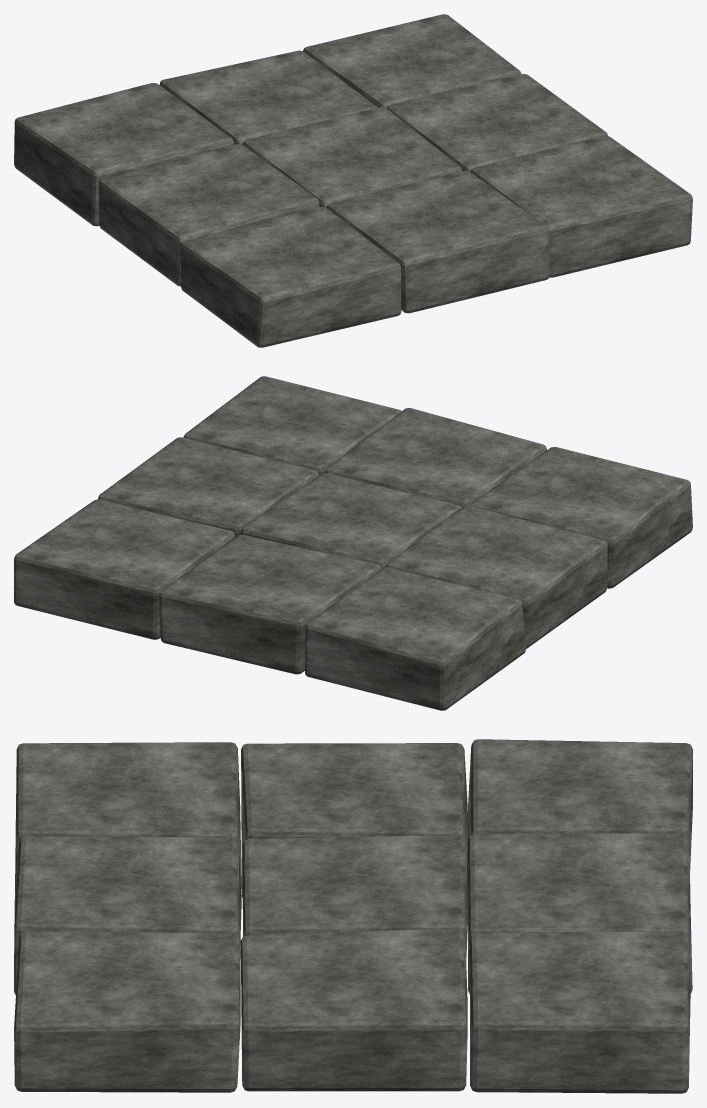
Rendered from 06_Foundation_Tile_300.glb.
3 renders of one model, top to bottom at view 1: azimuth 30°, elevation 25°; view 2: azimuth 150°, elevation 25°; view 3: azimuth 270°, elevation 25°, orthographic. The views are drawn at different scales.
Parts seen in each view (by area): view 1: 06_Foundation_Tile_300; view 2: 06_Foundation_Tile_300; view 3: 06_Foundation_Tile_300.
Part boxes in pixels (x1,y1,x2,y2): 06_Foundation_Tile_300: (14, 14, 692, 347); 06_Foundation_Tile_300: (14, 376, 692, 710); 06_Foundation_Tile_300: (14, 739, 692, 1093).
Size of the model in its own units: 3.02 by 0.3635 by 3.
1 material, 1 textured.
